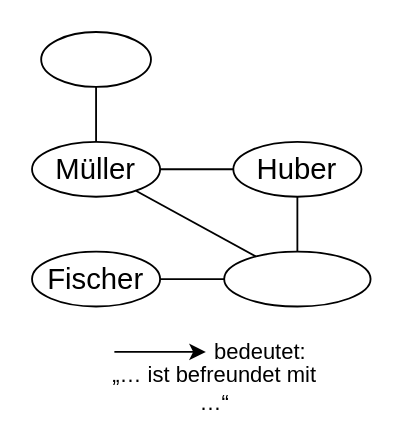
Some shapes in this 403 by 448 pixel diagram are drawn without their labels. The shapes that lost their labels are listed below. From the top down, each one's box as (x1, y1, x2, y2) in pixels, then its label:
(39, 30, 151, 87): Mayer
(222, 250, 371, 307): Schmidt
